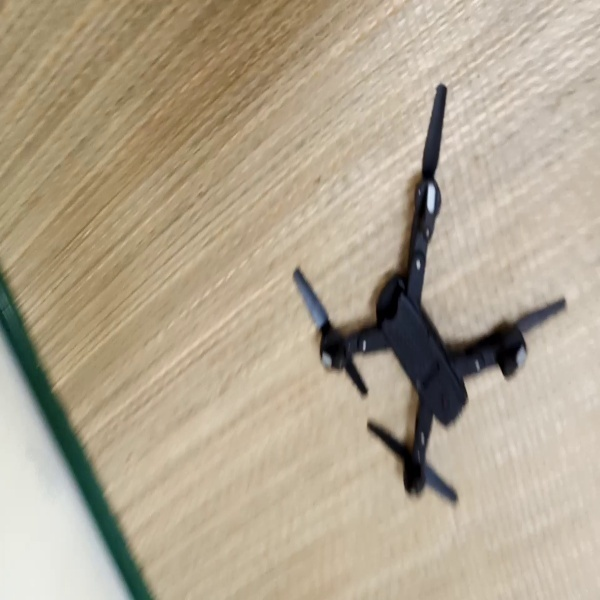drone: (292, 78, 574, 511)
